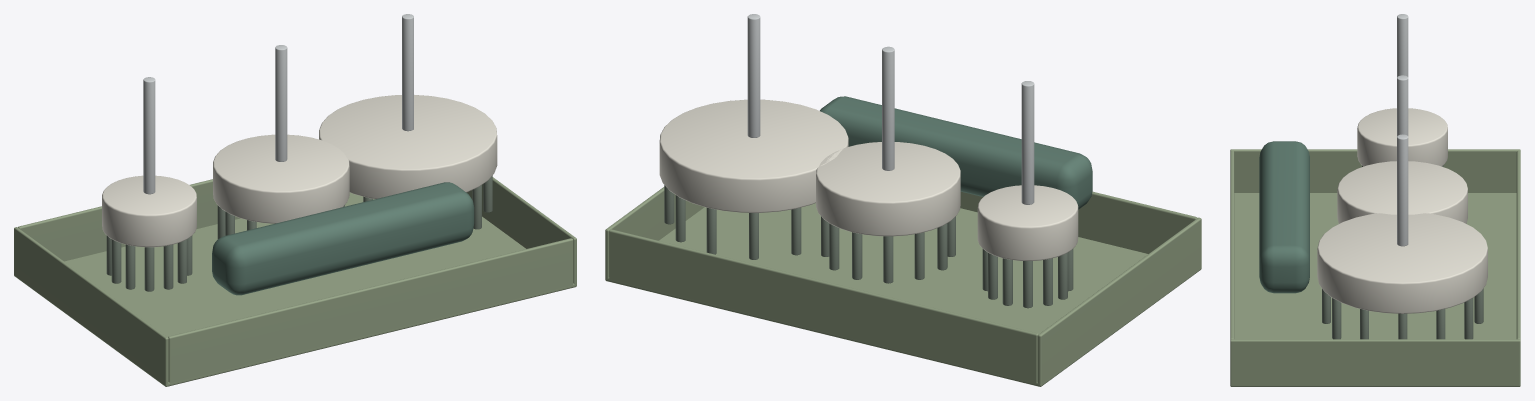
The model's file is drill-head-kit.glb.
3 renders of one model, left to right at view 1: azimuth 30°, elevation 25°; view 2: azimuth 150°, elevation 25°; view 3: azimuth 270°, elevation 25°, orthographic. The views are drawn at different scales.
Parts seen in each view (by area): view 1: Vented storage tray front, Vented storage tray floor, Unpowered manual holder, Brush block.002, Brush block.001, Vented storage tray left, Brush block, Vented storage tray back, Vented storage tray right, Hex shank exterior proxy, Hex shank exterior proxy.001, Hex shank exterior proxy.002 (+3 smaller); view 2: Vented storage tray back, Vented storage tray floor, Brush block.002, Brush block.001, Unpowered manual holder, Vented storage tray left, Brush block, Vented storage tray front, Vented storage tray right, Hex shank exterior proxy, Hex shank exterior proxy.002, Hex shank exterior proxy.001 (+6 smaller); view 3: Vented storage tray floor, Brush block.002, Vented storage tray right, Unpowered manual holder, Brush block.001, Vented storage tray left, Brush block, Hex shank exterior proxy.002, Vented storage tray back, Vented storage tray front, Hex shank exterior proxy, Hex shank exterior proxy.001 (+7 smaller).
Part boxes in pixels (x1,y1,x2,y2): Vented storage tray front: (168, 238, 573, 385); Vented storage tray floor: (64, 192, 576, 386); Unpowered manual holder: (212, 182, 474, 295); Brush block.002: (319, 95, 497, 198); Brush block.001: (213, 134, 349, 223); Vented storage tray left: (14, 227, 168, 386); Brush block: (102, 175, 196, 247); Vented storage tray back: (18, 179, 240, 261); Vented storage tray right: (466, 177, 576, 286); Hex shank exterior proxy: (143, 77, 155, 194); Hex shank exterior proxy.001: (275, 45, 287, 161); Hex shank exterior proxy.002: (402, 14, 413, 131); Vented storage tray back: (609, 229, 1038, 385); Vented storage tray floor: (605, 203, 1200, 386); Brush block.002: (659, 99, 848, 212); Brush block.001: (816, 142, 960, 236); Unpowered manual holder: (820, 96, 1092, 209); Vented storage tray left: (1037, 217, 1201, 386); Brush block: (977, 185, 1078, 260); Vented storage tray front: (960, 191, 1197, 253); Vented storage tray right: (605, 187, 704, 281); Hex shank exterior proxy: (1021, 81, 1034, 204); Hex shank exterior proxy.002: (747, 14, 760, 137); Hex shank exterior proxy.001: (882, 46, 894, 170); Vented storage tray floor: (1230, 193, 1520, 386); Brush block.002: (1317, 213, 1487, 313); Vented storage tray right: (1230, 339, 1520, 385); Unpowered manual holder: (1259, 141, 1309, 293); Brush block.001: (1337, 161, 1467, 223); Vented storage tray left: (1230, 149, 1520, 192); Brush block: (1357, 108, 1447, 166); Hex shank exterior proxy.002: (1397, 134, 1408, 246); Vented storage tray back: (1516, 151, 1520, 339); Vented storage tray front: (1230, 151, 1234, 339); Hex shank exterior proxy: (1397, 14, 1408, 76); Hex shank exterior proxy.001: (1397, 75, 1408, 136).
Size of the model in its own units: 0.25 by 0.13 by 0.16.
